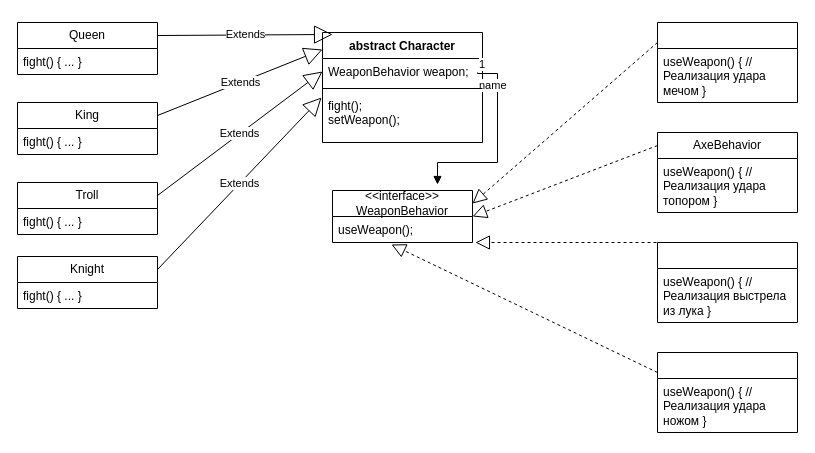
Some shapes in this 815 by 453 pixel diagram are drawn without their labels. Each missing label, with the box of its shape:
BowAndArrowBehavior: (656, 242, 798, 322)
KnifeBehavior: (656, 352, 798, 432)
SwordBehavior: (656, 22, 798, 102)
